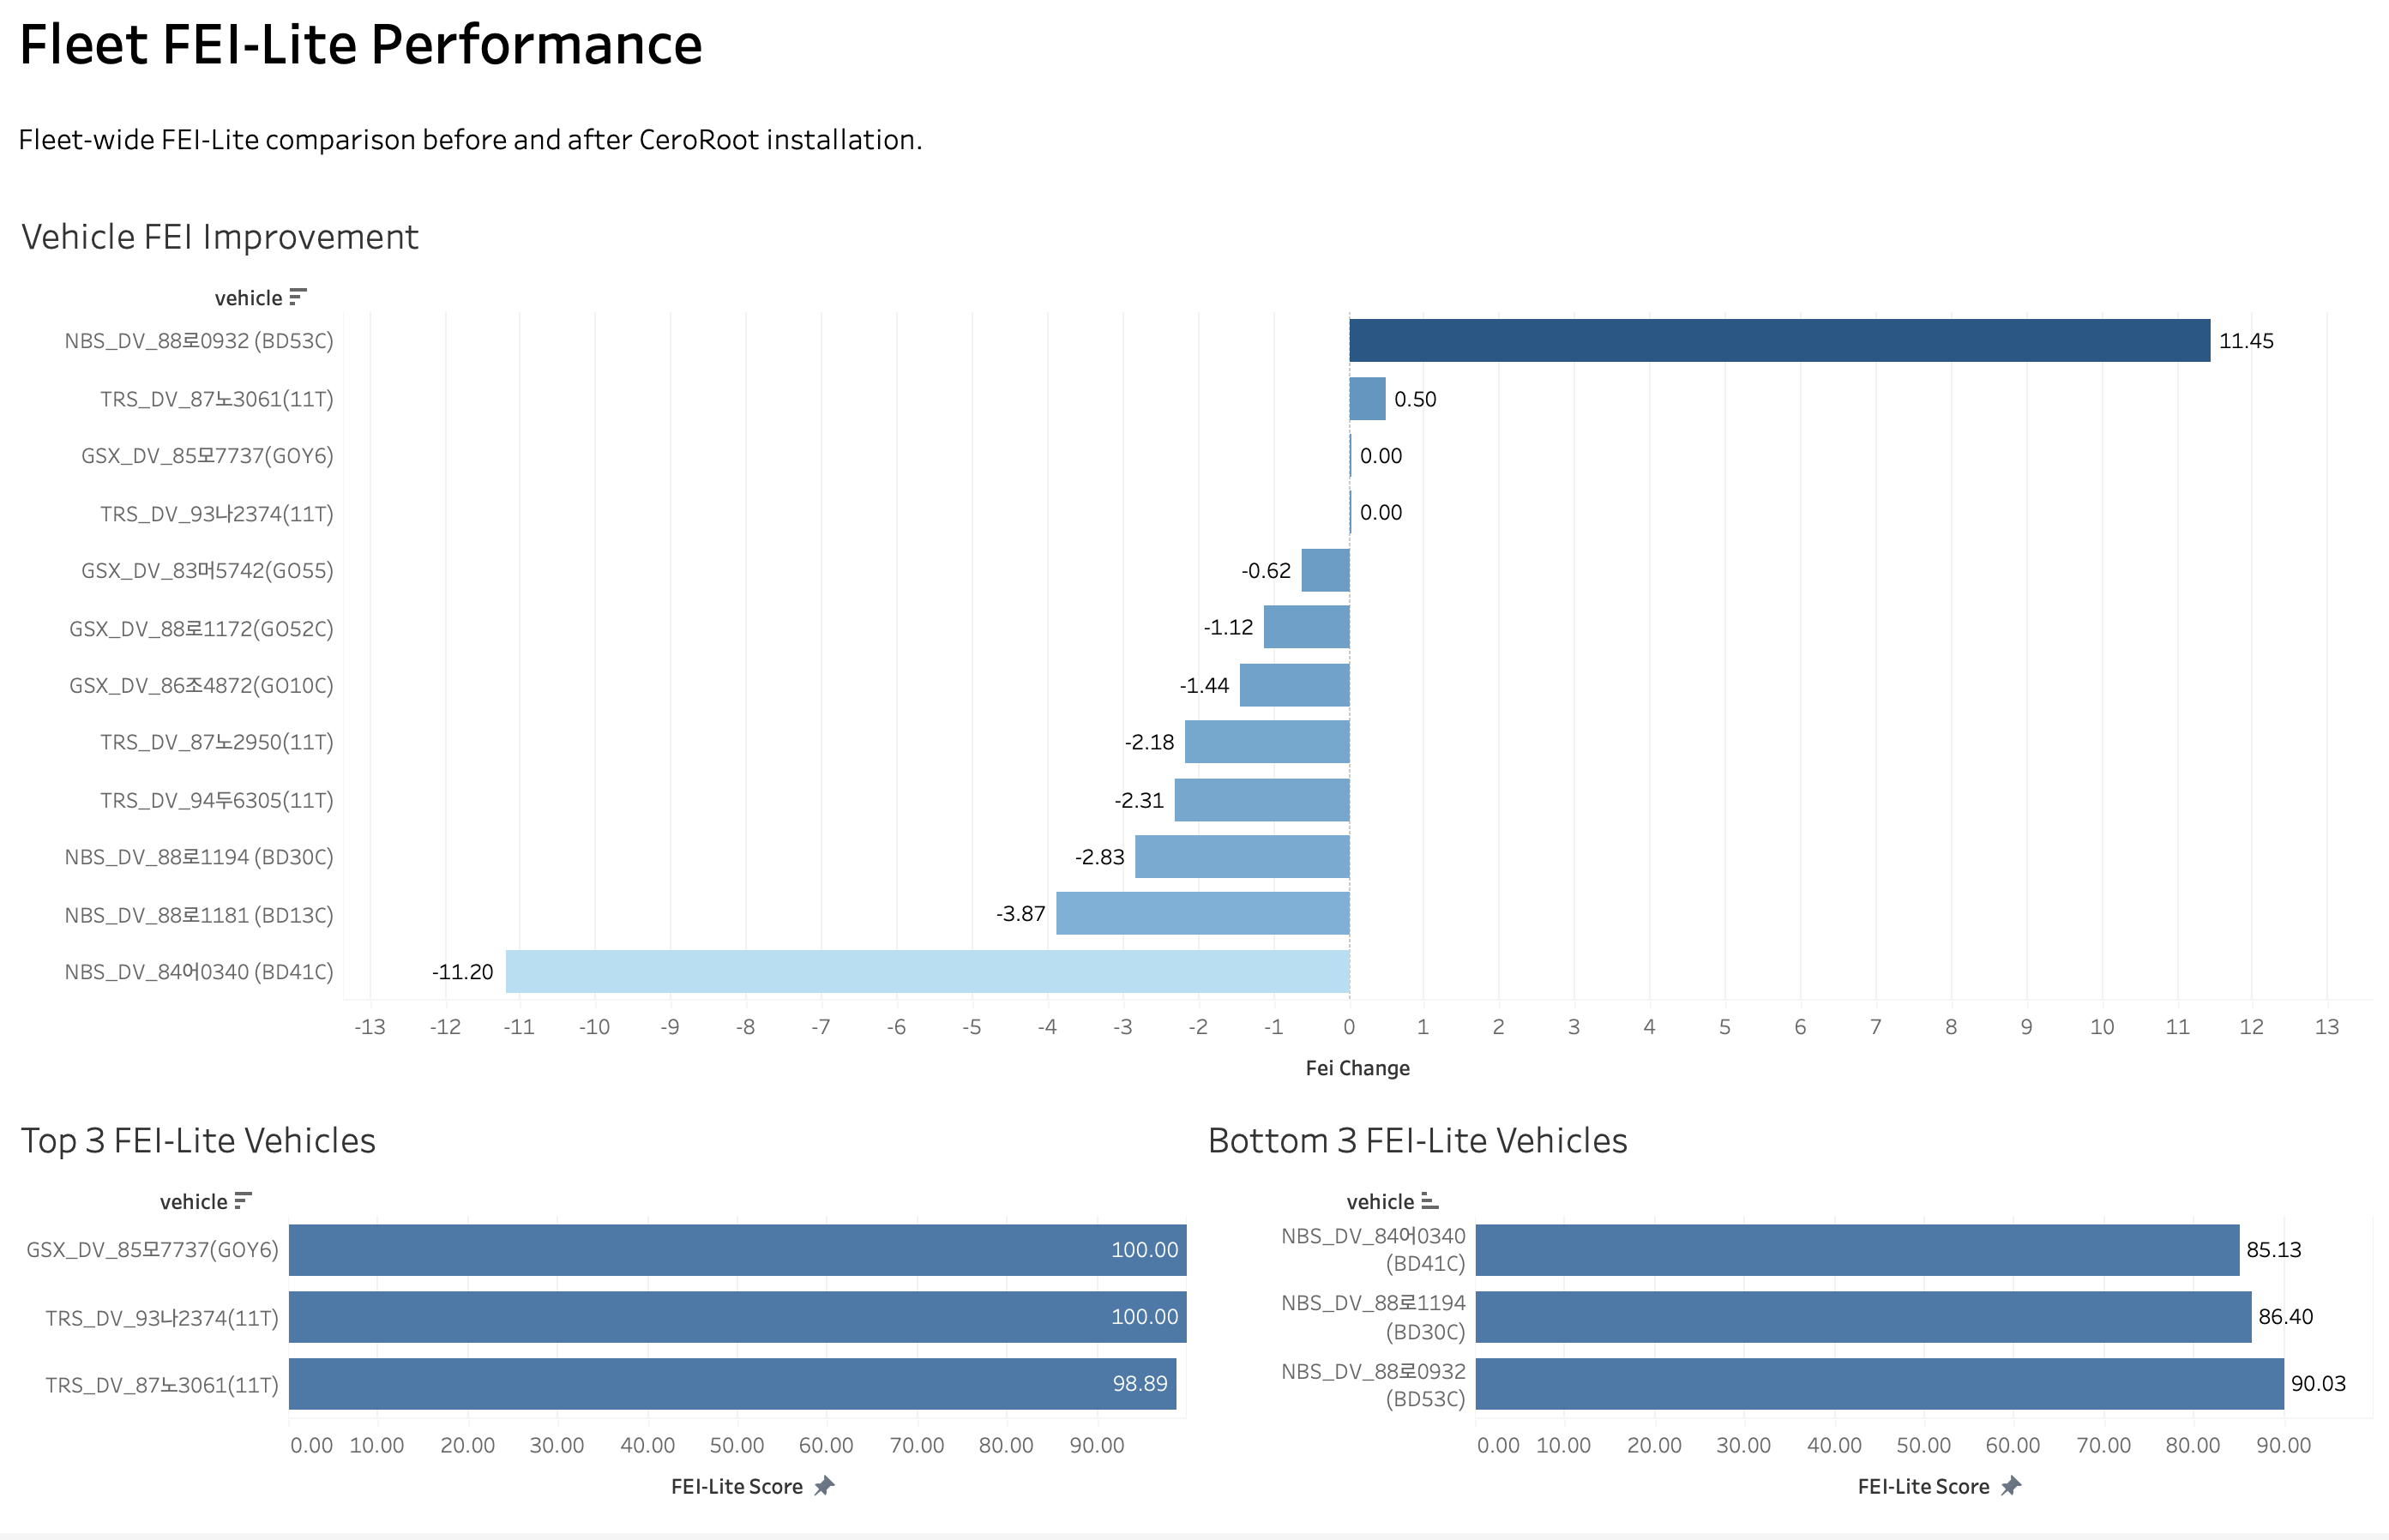

The page's visual inventory and layout, read from the dashboard file:
{"tool":"tableau","page":{"name":"Dashboard - Fleet FEI-Lite Performance","canvas":[1000,1000],"units":"permille","ordinal":2},"visuals":[{"type":"text","box":[5.7,8.9,988.6,48.9]},{"type":"text","box":[5.7,57.8,988.6,76.7]},{"type":"worksheet","title":"20 FEI Improvement","mark":"Bar","rows":["vehicle"],"cols":["fei_change"],"box":[5.7,134.4,988.6,585.6]},{"type":"worksheet","title":"21 Top 3 FEI Vehicles","mark":"Bar","rows":["vehicle"],"cols":["after_fei_lite"],"box":[5.7,720,494.3,271.1]},{"type":"worksheet","title":"22 Bottom 3 FEI Vehicles","mark":"Bar","rows":["vehicle"],"cols":["after_fei_lite"],"box":[500,720,494.3,271.1]}]}

Visuals, with their boxes on the dashboard's canvas, which has no fixed pixel size, in thousandths of its width and height (x1, y1, x2, y2). These are canvas units, not pixel positions in the 2389x1540 screenshot, which may show the page scaled, cropped or inside an application window:
text: Rect(6, 9, 994, 58)
text: Rect(6, 58, 994, 134)
"20 FEI Improvement" worksheet (Bar marks): Rect(6, 134, 994, 720)
"21 Top 3 FEI Vehicles" worksheet (Bar marks): Rect(6, 720, 500, 991)
"22 Bottom 3 FEI Vehicles" worksheet (Bar marks): Rect(500, 720, 994, 991)
